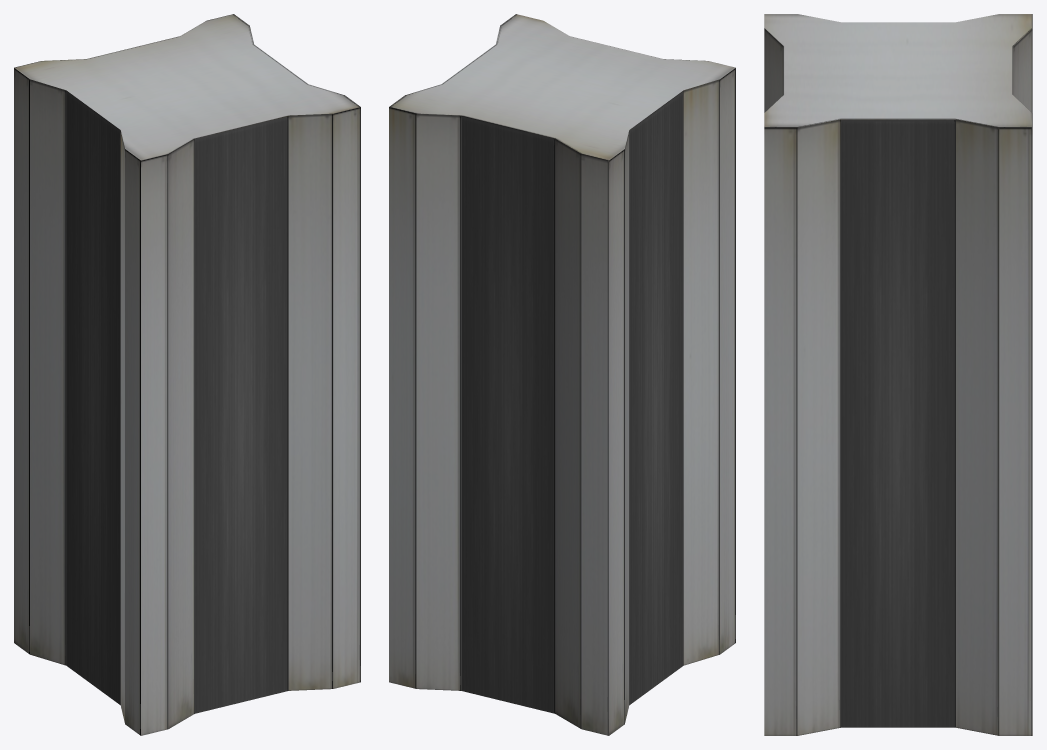
The model's file is Pillar.fbx.
3 renders of one model, left to right at view 1: azimuth 30°, elevation 25°; view 2: azimuth 150°, elevation 25°; view 3: azimuth 270°, elevation 25°, orthographic. The views are drawn at different scales.
Visible parts, largest first — view 1: Pillar; view 2: Pillar; view 3: Pillar.
Boxes of the visible parts, x1=… form: Pillar: x1=14, y1=14, x2=360, y2=735; Pillar: x1=389, y1=14, x2=735, y2=735; Pillar: x1=764, y1=14, x2=1032, y2=735.
Size of the model in its own units: 2000 by 5000 by 2000.
